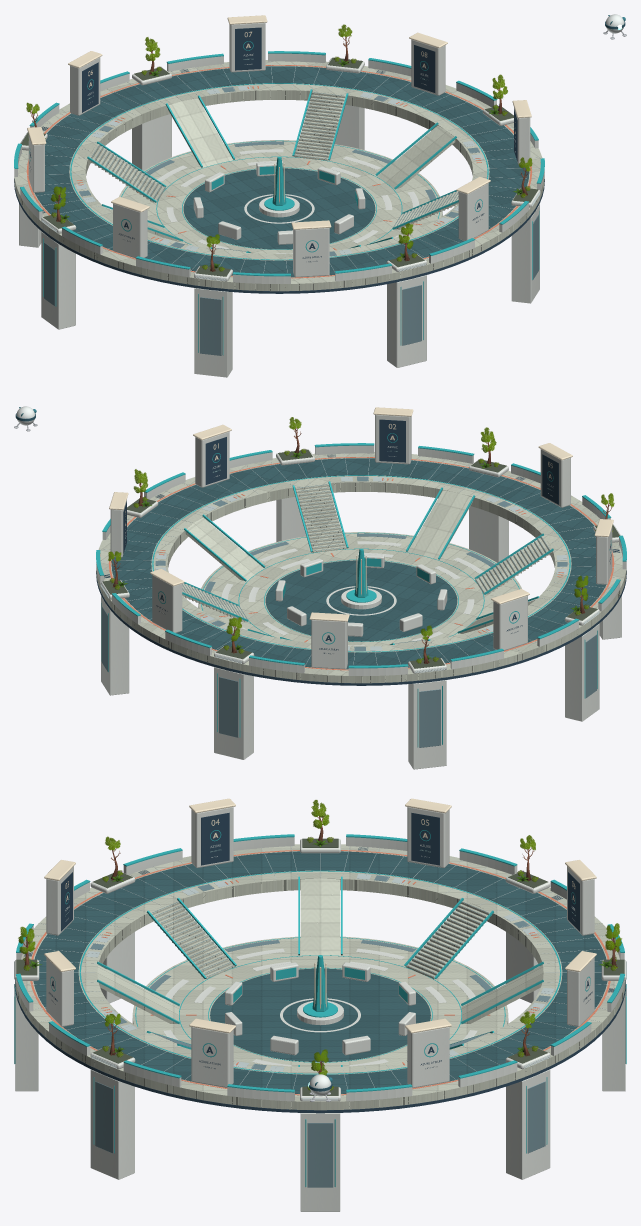
The model's file is circle2-azure-atrium.glb.
3 renders of one model, top to bottom at view 1: azimuth 30°, elevation 25°; view 2: azimuth 150°, elevation 25°; view 3: azimuth 270°, elevation 25°, orthographic. The views are drawn at different scales.
Visible parts, largest first — view 1: 02 / upper promenade, 01 / lower arena, 04 / safety parapets, T02 / garden pylon, T03 / garden pylon, T04 / garden pylon, 07 / paving details, T01 / garden pylon, R07 / stair bridge, T06 / garden pylon, R06 / inclined bridge, R00 / inclined bridge (+15 smaller); view 2: 02 / upper promenade, 01 / lower arena, 04 / safety parapets, T06 / garden pylon, T05 / garden pylon, T04 / garden pylon, 07 / paving details, T07 / garden pylon, R01 / stair bridge, T02 / garden pylon, R02 / inclined bridge, R00 / inclined bridge (+15 smaller); view 3: 02 / upper promenade, 01 / lower arena, 04 / safety parapets, T01 / garden pylon, T07 / garden pylon, T00 / garden pylon, 07 / paving details, R04 / inclined bridge, R05 / stair bridge, R03 / stair bridge, 03 / cover, T06 / garden pylon (+15 smaller).
Boxes of the visible parts, x1=… form: 02 / upper promenade: x1=14, y1=60, x2=544, y2=293; 01 / lower arena: x1=119, y1=140, x2=442, y2=253; 04 / safety parapets: x1=14, y1=51, x2=544, y2=283; T02 / garden pylon: x1=386, y1=223, x2=426, y2=367; T03 / garden pylon: x1=194, y1=234, x2=232, y2=377; T04 / garden pylon: x1=41, y1=186, x2=76, y2=329; 07 / paving details: x1=41, y1=69, x2=513, y2=256; T01 / garden pylon: x1=511, y1=157, x2=540, y2=303; R07 / stair bridge: x1=292, y1=89, x2=348, y2=160; T06 / garden pylon: x1=132, y1=37, x2=171, y2=170; R06 / inclined bridge: x1=165, y1=95, x2=234, y2=167; R00 / inclined bridge: x1=375, y1=122, x2=456, y2=189; 02 / upper promenade: x1=96, y1=452, x2=626, y2=685; 01 / lower arena: x1=198, y1=532, x2=521, y2=645; 04 / safety parapets: x1=96, y1=443, x2=626, y2=675; T06 / garden pylon: x1=214, y1=617, x2=254, y2=759; T05 / garden pylon: x1=408, y1=625, x2=446, y2=769; T04 / garden pylon: x1=564, y1=575, x2=599, y2=721; 07 / paving details: x1=104, y1=454, x2=619, y2=650; T07 / garden pylon: x1=100, y1=551, x2=129, y2=695; R01 / stair bridge: x1=292, y1=481, x2=348, y2=552; T02 / garden pylon: x1=469, y1=427, x2=508, y2=562; R02 / inclined bridge: x1=406, y1=487, x2=475, y2=559; R00 / inclined bridge: x1=184, y1=514, x2=265, y2=581; 02 / upper promenade: x1=15, y1=844, x2=625, y2=1113; 01 / lower arena: x1=132, y1=936, x2=508, y2=1066; 04 / safety parapets: x1=16, y1=834, x2=624, y2=1101; T01 / garden pylon: x1=90, y1=1013, x2=135, y2=1179; T07 / garden pylon: x1=505, y1=1011, x2=550, y2=1179; T00 / garden pylon: x1=300, y1=1049, x2=340, y2=1211; 07 / paving details: x1=24, y1=847, x2=614, y2=1071; R04 / inclined bridge: x1=298, y1=876, x2=342, y2=955; R05 / stair bridge: x1=404, y1=898, x2=493, y2=979; R03 / stair bridge: x1=147, y1=898, x2=236, y2=979; 03 / cover: x1=225, y1=962, x2=415, y2=1055; T06 / garden pylon: x1=599, y1=923, x2=626, y2=1091.
Size of what is drawn, in the model's own units: 65.1 by 18.45 by 52.2.
12 materials, 7 textured.
